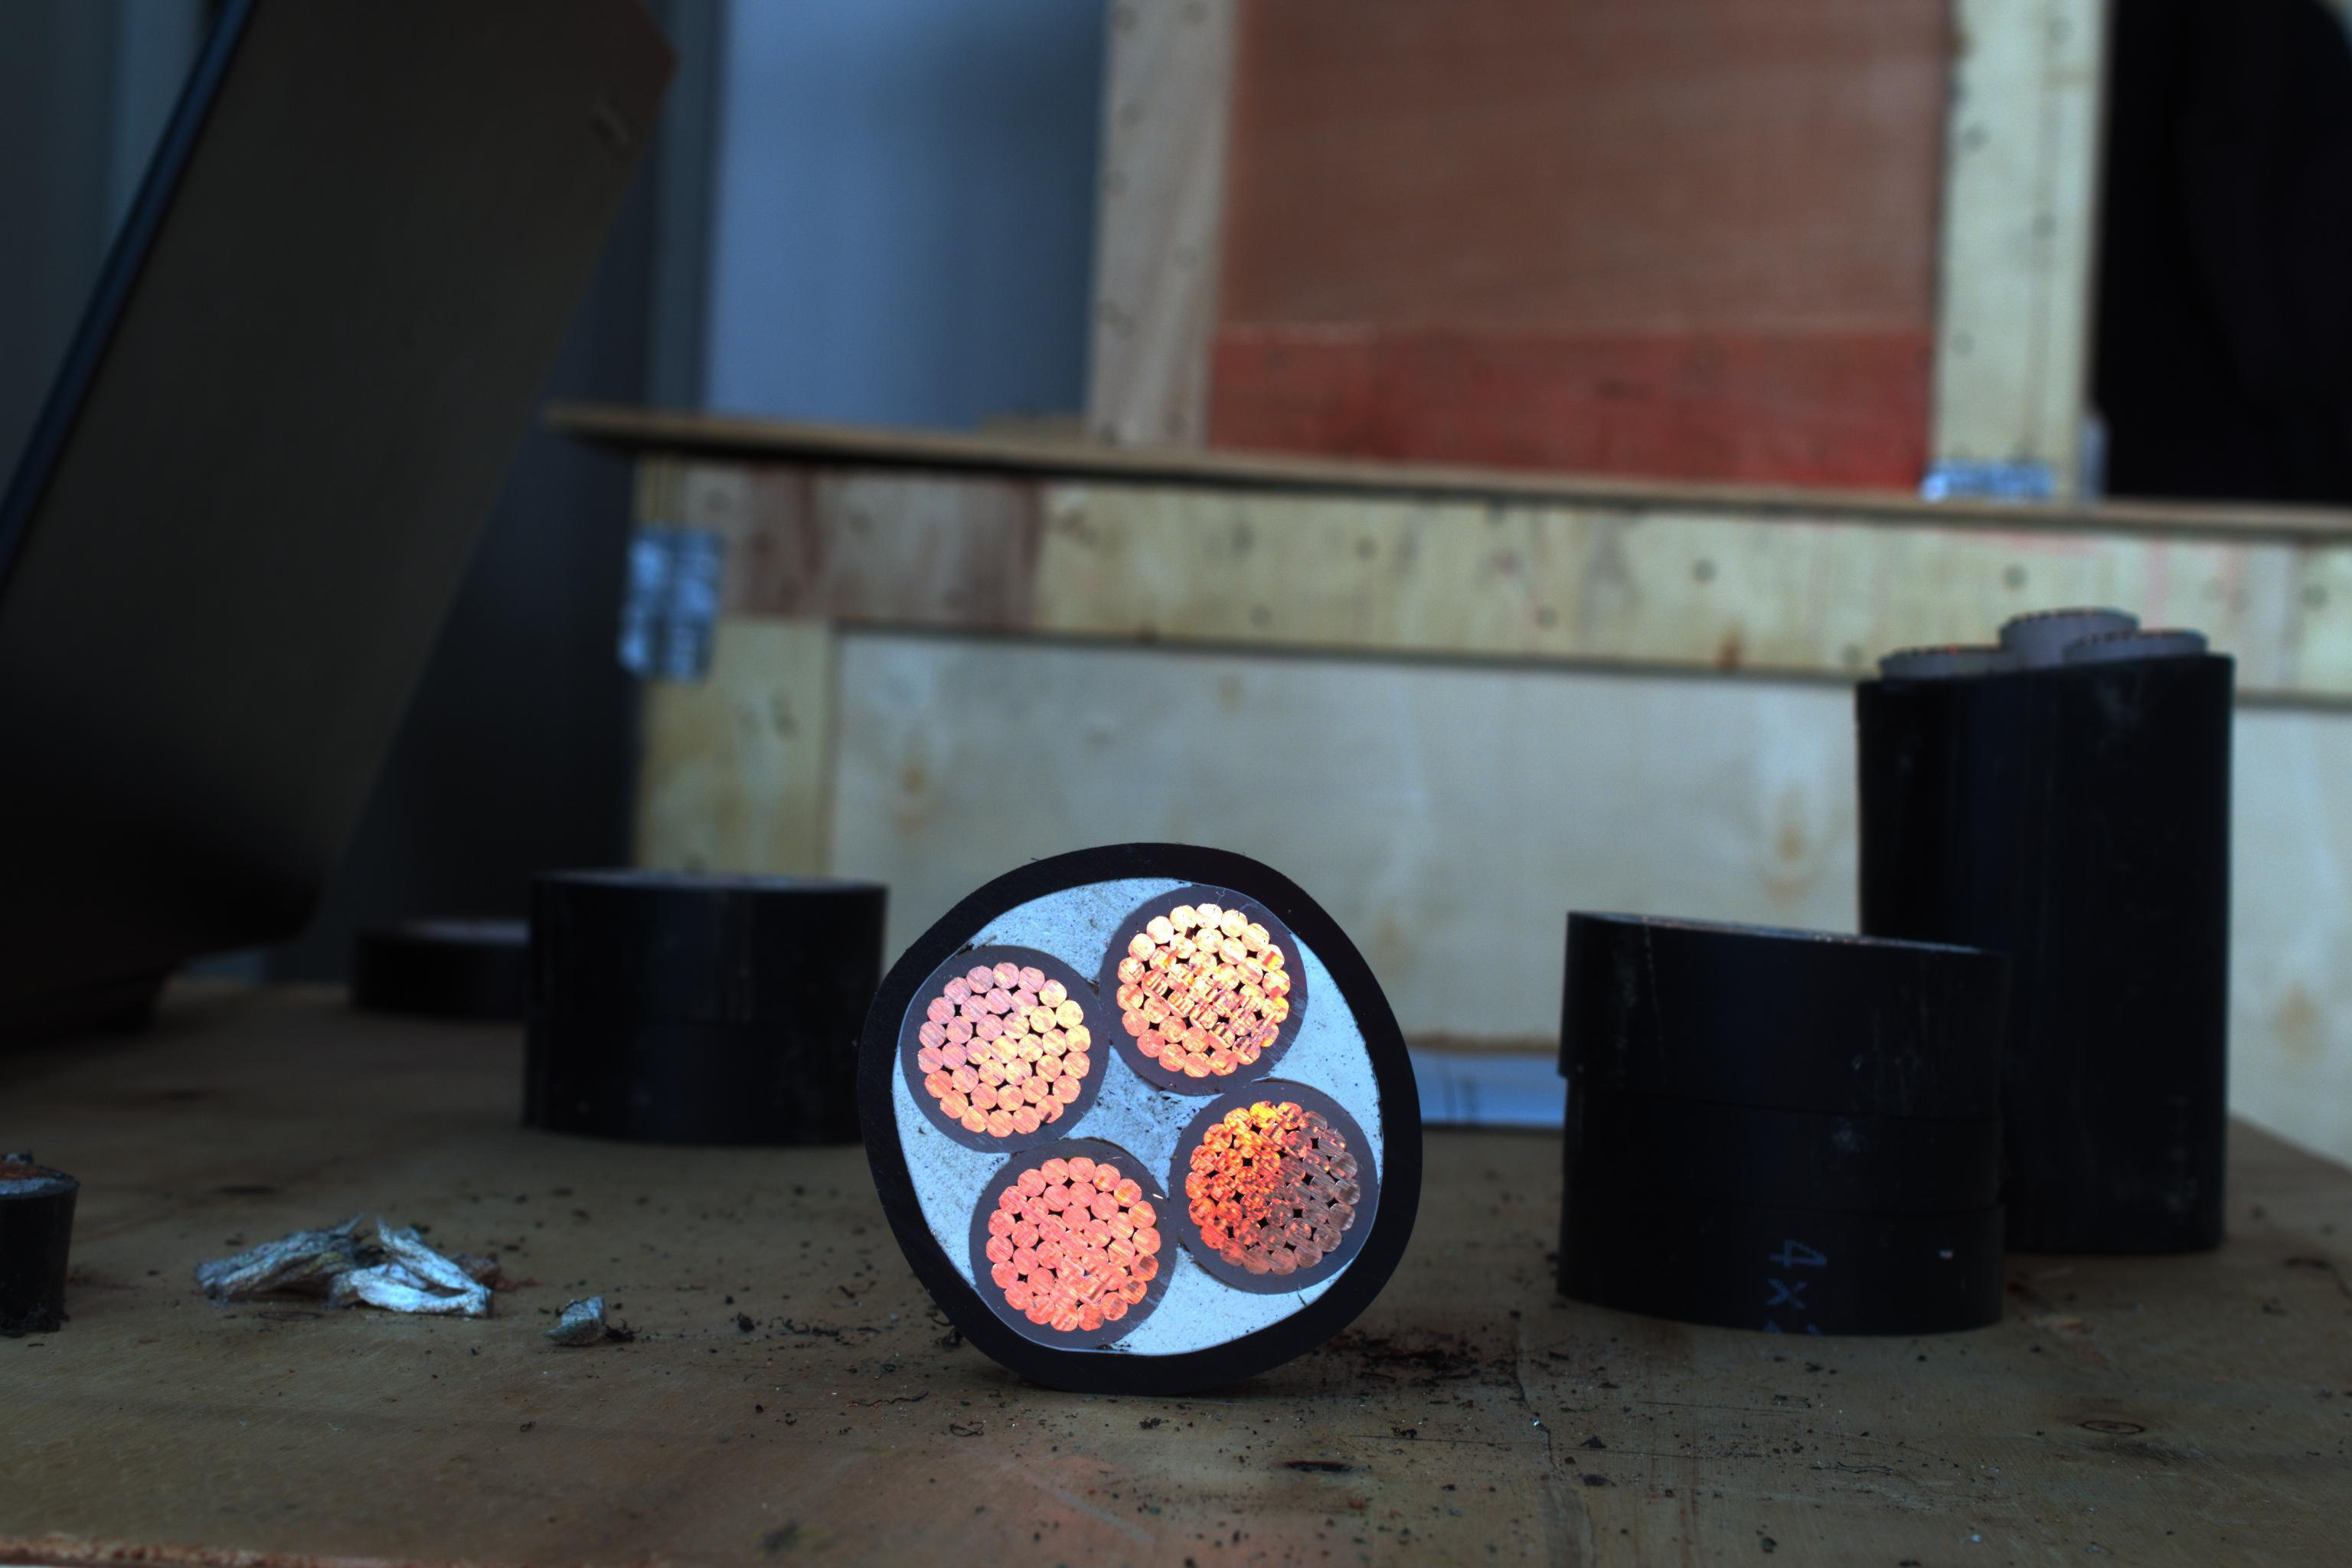YJV_0.6_1kV_4x240: (854, 850, 1416, 1381)
